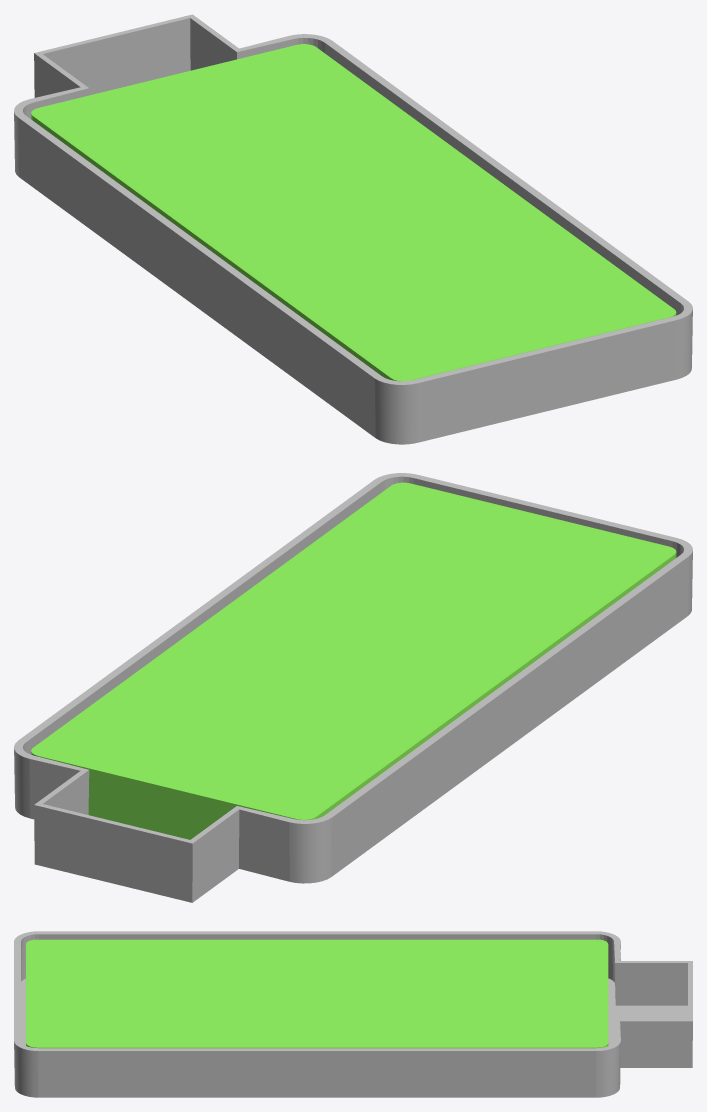
Rendered from battery.fbx.
The picture shows the model from 3 angles, top to bottom: view 1: azimuth 30°, elevation 25°; view 2: azimuth 150°, elevation 25°; view 3: azimuth 270°, elevation 25°; orthographic projection. The views are drawn at different scales.
Parts seen in each view (by area): view 1: 平面.001; view 2: 平面.001; view 3: 平面.001.
Part boxes in pixels (x1,y1,x2,y2): 平面.001: (14,14,692,444); 平面.001: (14,473,692,902); 平面.001: (14,931,692,1097).
Size of the model in its own units: 10.27 by 1.88 by 24.57.
1 material, 1 textured.
